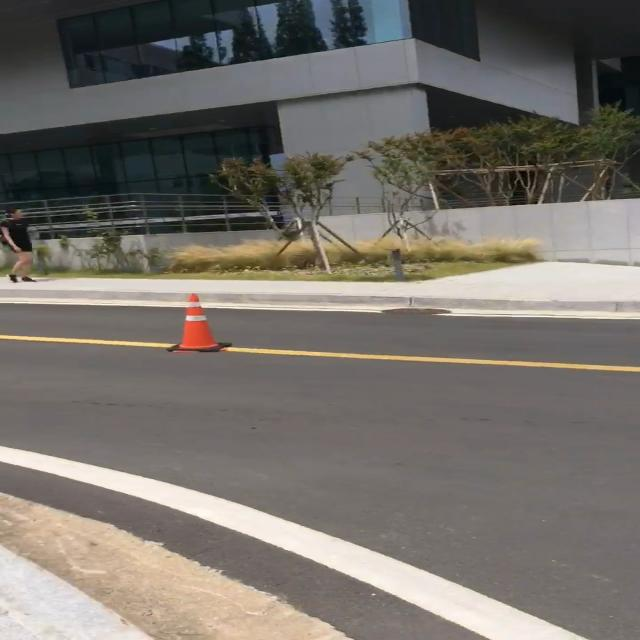obstacle: (163, 292, 230, 350), (0, 204, 40, 285)
sidewalk: (0, 260, 640, 314)
